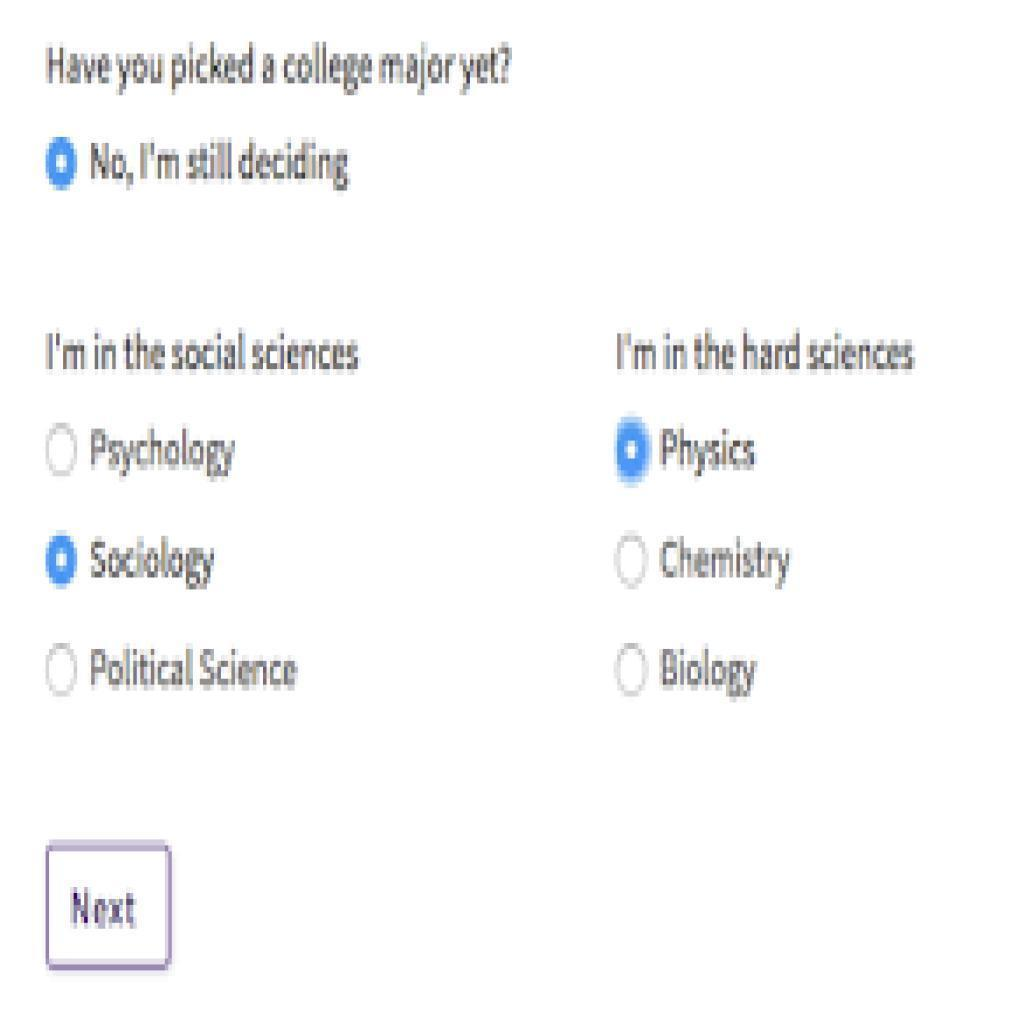button: (45, 842, 172, 973)
radio: (611, 409, 656, 487), (42, 133, 80, 197), (42, 530, 80, 592), (41, 641, 81, 698), (613, 529, 651, 585), (44, 421, 79, 480), (615, 645, 651, 698)
